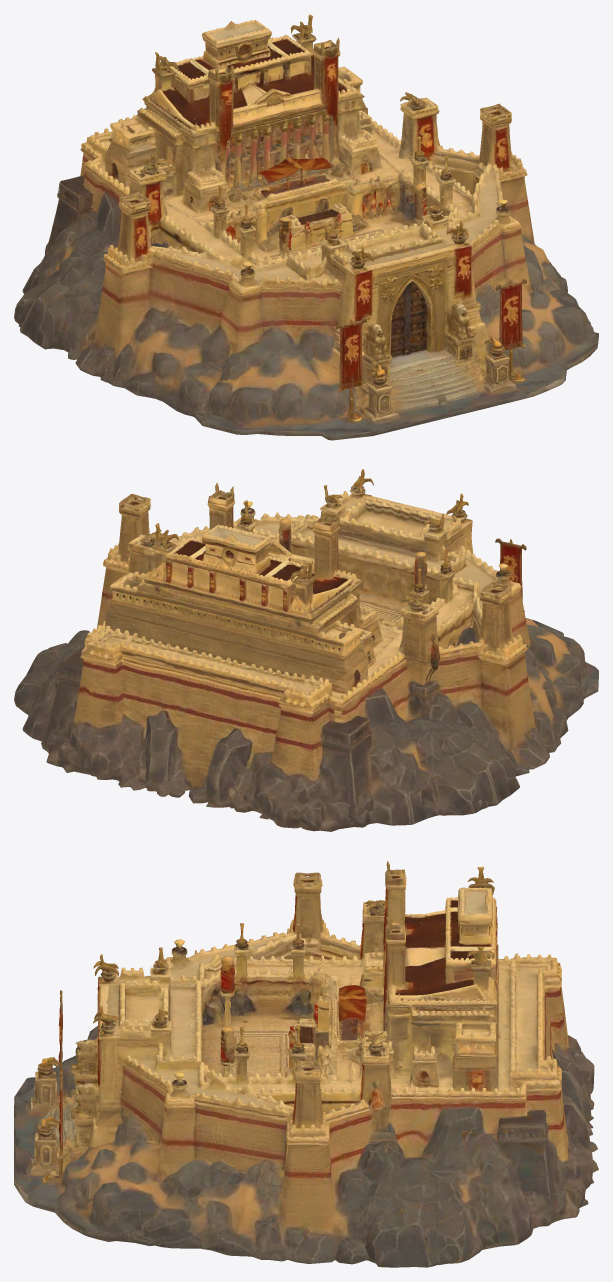
The model's file is ZabulistanKeep.glb.
3 views of the same model, one above another, from view 1: azimuth 30°, elevation 25°; view 2: azimuth 150°, elevation 25°; view 3: azimuth 270°, elevation 25° (orthographic). The views are drawn at different scales.
Size of the model in its own units: 1.9 by 0.9061 by 1.89.
1 material, 1 textured.
